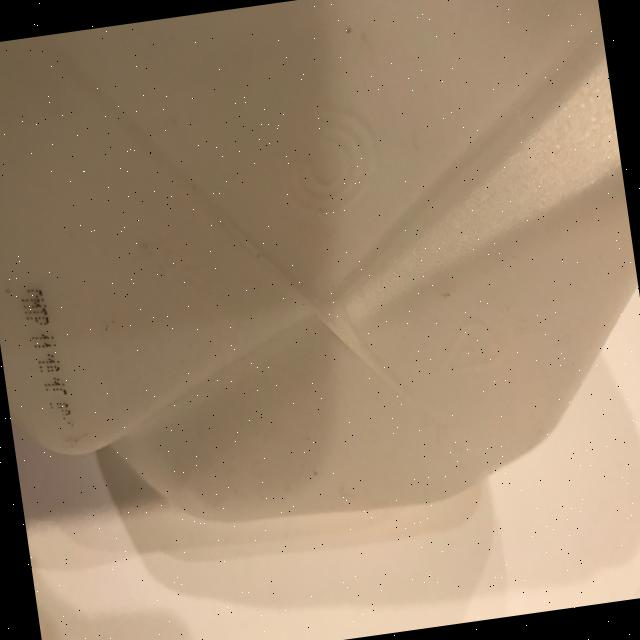plastic: (8, 0, 640, 570)
